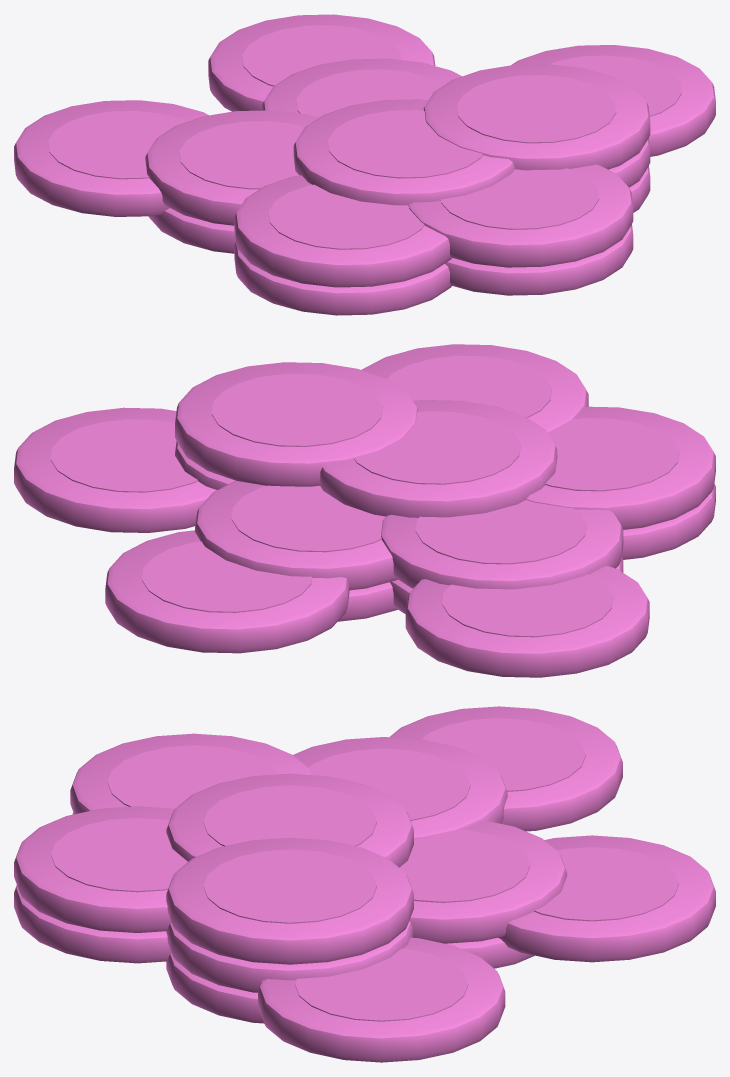
Rendered from Item_CoinsLarge.fbx.
The picture shows the model from 3 angles, top to bottom: view 1: azimuth 30°, elevation 25°; view 2: azimuth 150°, elevation 25°; view 3: azimuth 270°, elevation 25°; orthographic projection. The views are drawn at different scales.
Parts seen in each view (by area): view 1: Coins; view 2: Coins; view 3: Coins.
Part boxes in pixels (x1,y1,x2,y2): Coins: (14,14,715,315); Coins: (14,344,715,677); Coins: (14,706,715,1062).
Bounding box in the file's own units: 6.23 × 0.845 × 5.67.
Materials: 1 (1 with a texture image).
